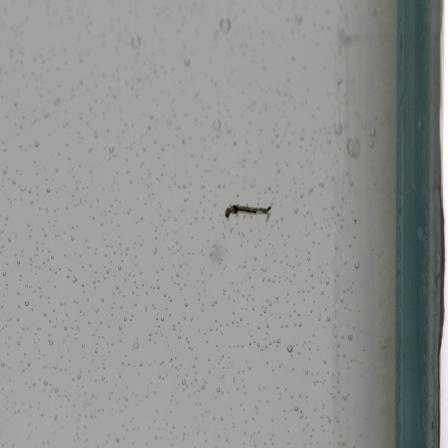Jentik-Nyamuk: (219, 199, 274, 224)
